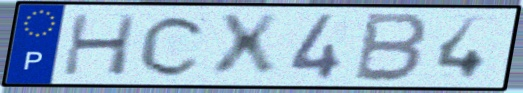4: (288, 12, 346, 82), (433, 14, 491, 82)
B: (350, 10, 433, 84)
C: (135, 13, 211, 79)
H: (59, 12, 141, 77)
X: (210, 12, 283, 80)
